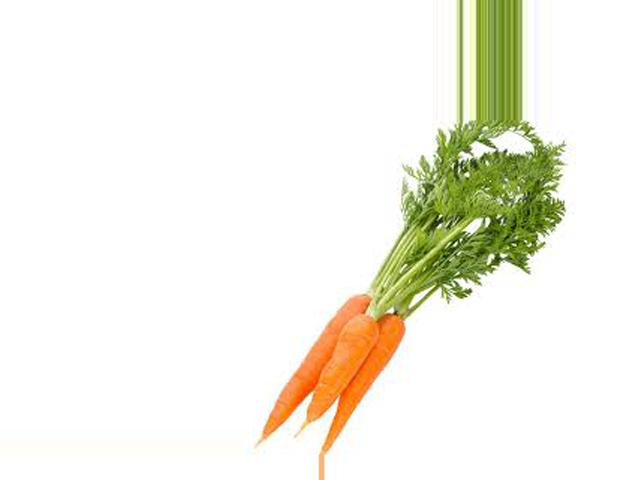carrot: (317, 317, 410, 450)
